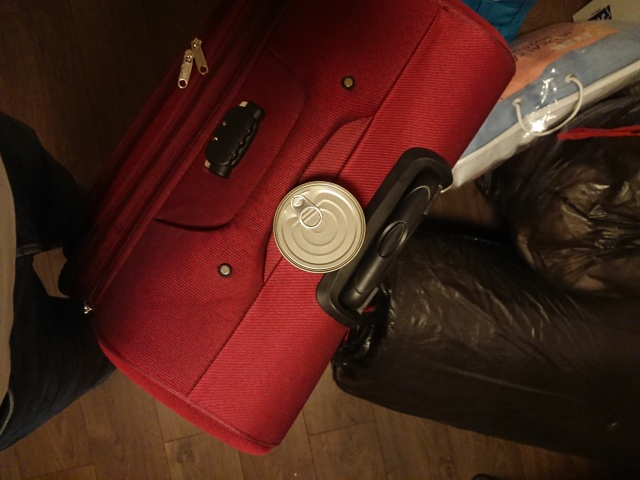Giana Tuna Salad Mexico 185g: (270, 178, 368, 276)
